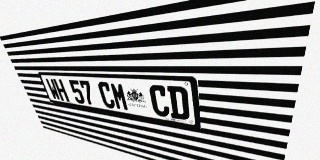5: (68, 80, 86, 104)
7: (78, 80, 97, 106)
C: (148, 85, 170, 118), (97, 81, 116, 109)
D: (167, 86, 190, 121)
H: (53, 79, 70, 102)
M: (109, 82, 130, 111)
W: (45, 78, 61, 100)
